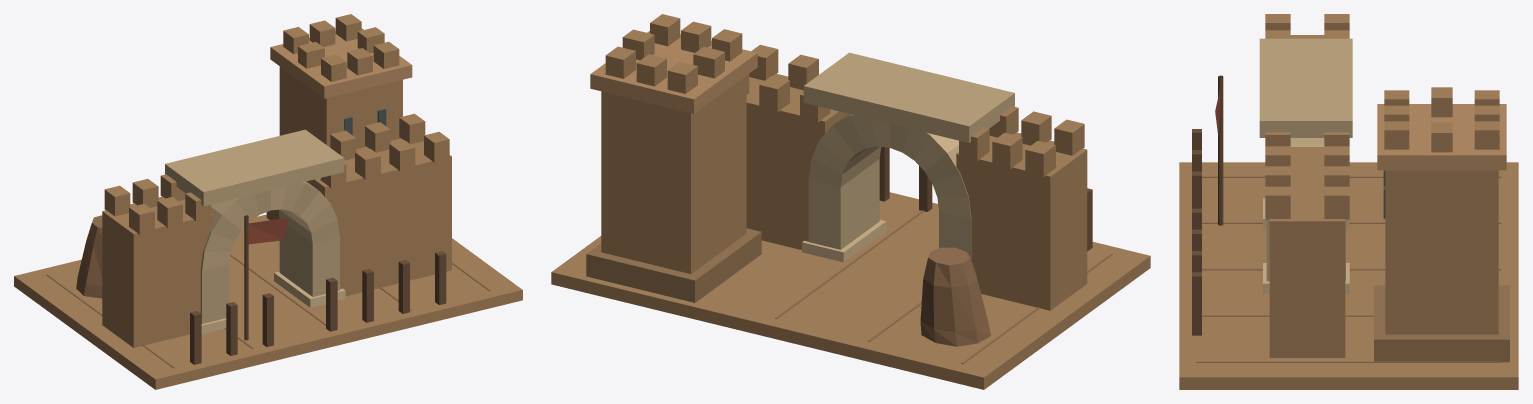
The picture shows the model from 3 angles, left to right: view 1: azimuth 30°, elevation 25°; view 2: azimuth 150°, elevation 25°; view 3: azimuth 270°, elevation 25°; orthographic projection. The views are drawn at different scales.
Parts seen in each view (by area): view 1: S28_玉门关 · 夯土关塞; view 2: S28_玉门关 · 夯土关塞; view 3: S28_玉门关 · 夯土关塞.
Part boxes in pixels (x1,y1,x2,y2): S28_玉门关 · 夯土关塞: (14,14,522,389); S28_玉门关 · 夯土关塞: (551,14,1150,389); S28_玉门关 · 夯土关塞: (1179,14,1518,389).
Size of the model in its own units: 4.05 by 2.09 by 2.7.
